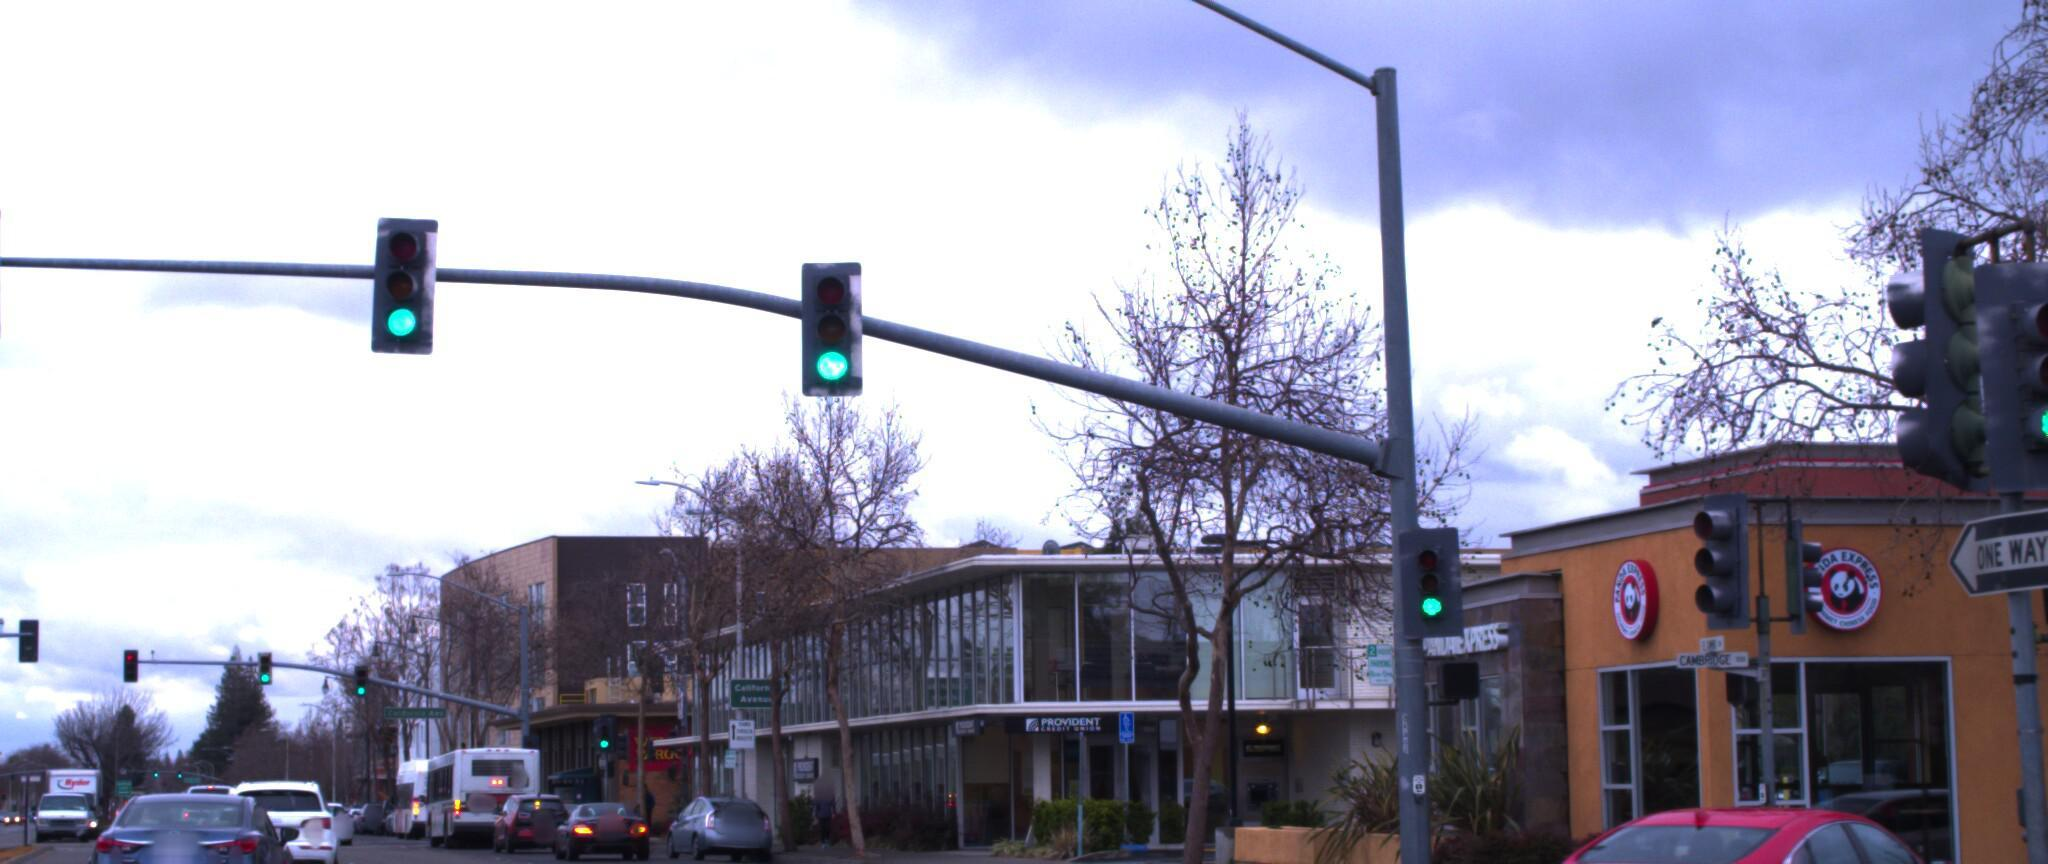car: (1488, 786, 2038, 864), (93, 783, 312, 864), (222, 767, 347, 864), (679, 784, 788, 857), (563, 790, 664, 854), (498, 784, 580, 847), (2000, 764, 2048, 864)
